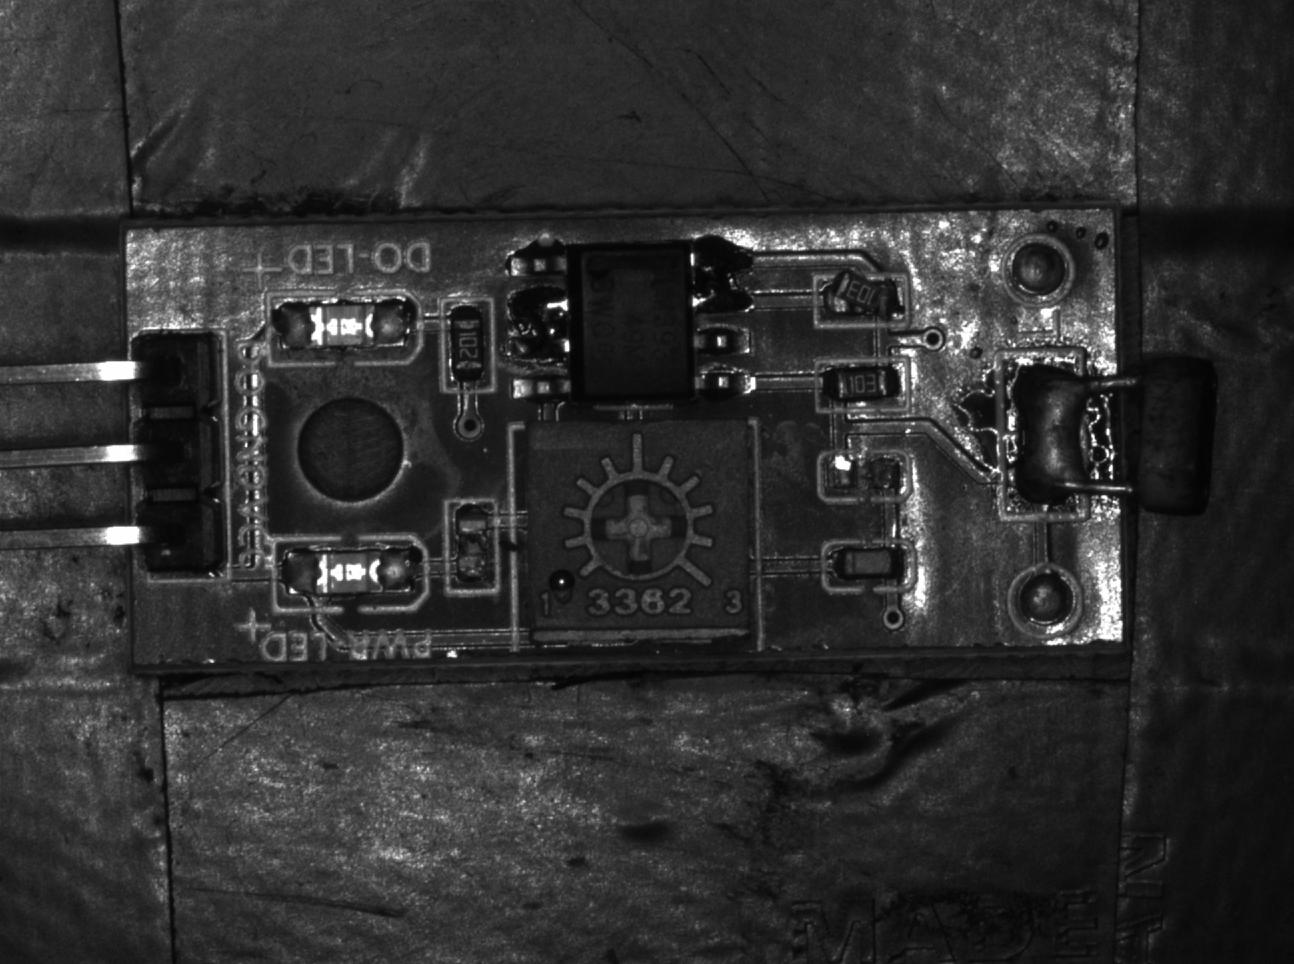bridge: (980, 344, 1121, 523), (689, 229, 753, 318), (508, 278, 571, 369)
lifted: (811, 265, 913, 335)
miss: (813, 446, 914, 508), (448, 496, 500, 593)
ok: (819, 538, 918, 593), (820, 354, 909, 415), (440, 298, 494, 398)
